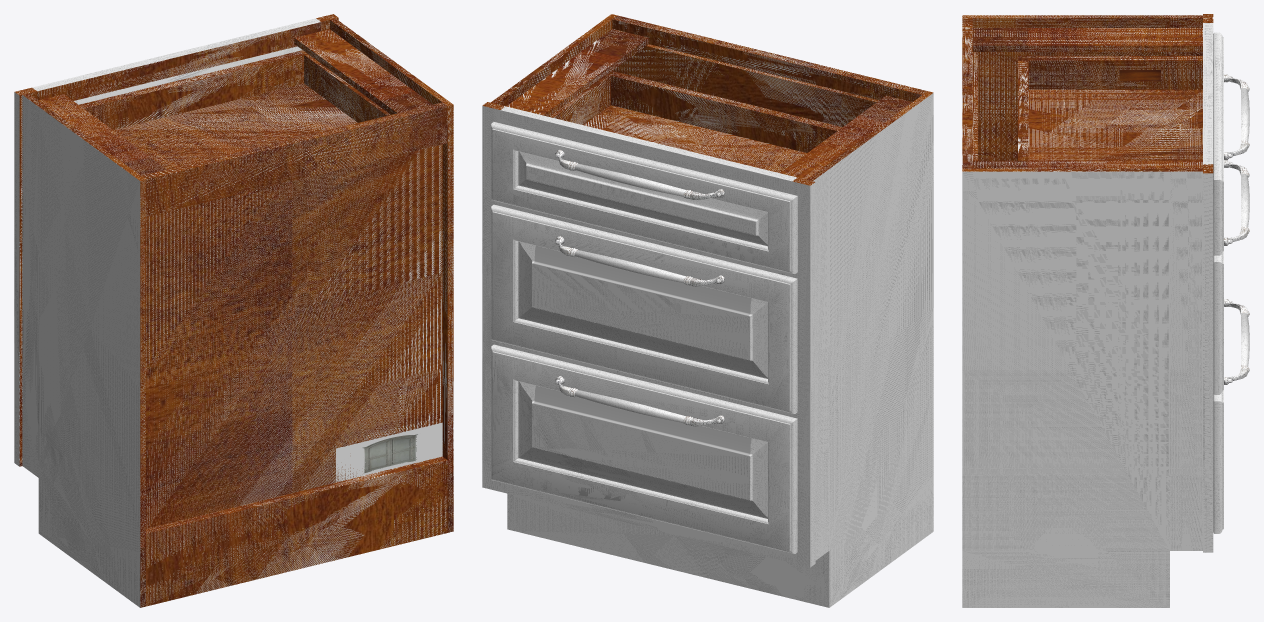
3 renders of one model, left to right at view 1: azimuth 30°, elevation 25°; view 2: azimuth 150°, elevation 25°; view 3: azimuth 270°, elevation 25°, orthographic. The views are drawn at different scales.
Visible parts, largest first — view 1: mesh4_mesh4-geometry, mesh7_mesh7-geometry, mesh12_mesh12-geometry, mesh3_mesh3-geometry, mesh19_mesh19-geometry, mesh17_mesh17-geometry, mesh6_mesh6-geometry, mesh5_mesh5-geometry, mesh8_mesh8-geometry, mesh10_mesh10-geometry, mesh14_mesh14-geometry, mesh46_mesh46-geometry (+4 smaller); view 2: mesh7_mesh7-geometry, mesh25_mesh25-geometry, mesh26_mesh26-geometry, mesh30_mesh30-geometry, mesh2_mesh2-geometry, mesh13_mesh13-geometry, mesh5_mesh5-geometry, mesh4_mesh4-geometry, mesh17_mesh17-geometry, mesh40_mesh40-geometry, mesh41_mesh41-geometry, mesh8_mesh8-geometry (+21 smaller); view 3: mesh10_mesh10-geometry, mesh9_mesh9-geometry, mesh19_mesh19-geometry, mesh11_mesh11-geometry, mesh7_mesh7-geometry, mesh16_mesh16-geometry, mesh15_mesh15-geometry, mesh2_mesh2-geometry, mesh14_mesh14-geometry, mesh3_mesh3-geometry, mesh5_mesh5-geometry, mesh35_mesh35-geometry (+11 smaller).
Boxes of the visible parts, <box> form: mesh4_mesh4-geometry: <box>146,144,442,528</box>; mesh7_mesh7-geometry: <box>38,105,145,552</box>; mesh12_mesh12-geometry: <box>146,456,447,606</box>; mesh3_mesh3-geometry: <box>141,102,447,216</box>; mesh19_mesh19-geometry: <box>113,83,357,169</box>; mesh17_mesh17-geometry: <box>79,51,303,129</box>; mesh6_mesh6-geometry: <box>22,93,43,477</box>; mesh5_mesh5-geometry: <box>32,18,320,100</box>; mesh8_mesh8-geometry: <box>38,478,145,607</box>; mesh10_mesh10-geometry: <box>346,30,453,476</box>; mesh14_mesh14-geometry: <box>294,29,432,114</box>; mesh46_mesh46-geometry: <box>336,422,442,482</box>; mesh7_mesh7-geometry: <box>823,91,933,550</box>; mesh25_mesh25-geometry: <box>533,215,752,456</box>; mesh26_mesh26-geometry: <box>533,306,751,542</box>; mesh30_mesh30-geometry: <box>533,264,748,498</box>; mesh2_mesh2-geometry: <box>482,102,815,567</box>; mesh13_mesh13-geometry: <box>513,495,823,606</box>; mesh5_mesh5-geometry: <box>500,106,796,562</box>; mesh4_mesh4-geometry: <box>612,44,878,126</box>; mesh17_mesh17-geometry: <box>611,72,842,152</box>; mesh40_mesh40-geometry: <box>528,131,757,222</box>; mesh41_mesh41-geometry: <box>528,178,756,264</box>; mesh8_mesh8-geometry: <box>823,474,933,607</box>; mesh10_mesh10-geometry: <box>962,168,1169,550</box>; mesh9_mesh9-geometry: <box>1170,168,1202,550</box>; mesh19_mesh19-geometry: <box>1028,89,1202,160</box>; mesh11_mesh11-geometry: <box>962,551,1169,607</box>; mesh7_mesh7-geometry: <box>962,15,1169,160</box>; mesh16_mesh16-geometry: <box>1018,56,1202,89</box>; mesh15_mesh15-geometry: <box>972,28,1202,51</box>; mesh2_mesh2-geometry: <box>1203,14,1213,552</box>; mesh14_mesh14-geometry: <box>972,160,1202,168</box>; mesh3_mesh3-geometry: <box>962,18,972,168</box>; mesh5_mesh5-geometry: <box>1203,23,1213,164</box>; mesh35_mesh35-geometry: <box>1241,88,1249,366</box>.
Size of the model in its own units: 0.5578 by 0.7127 by 0.4254.
